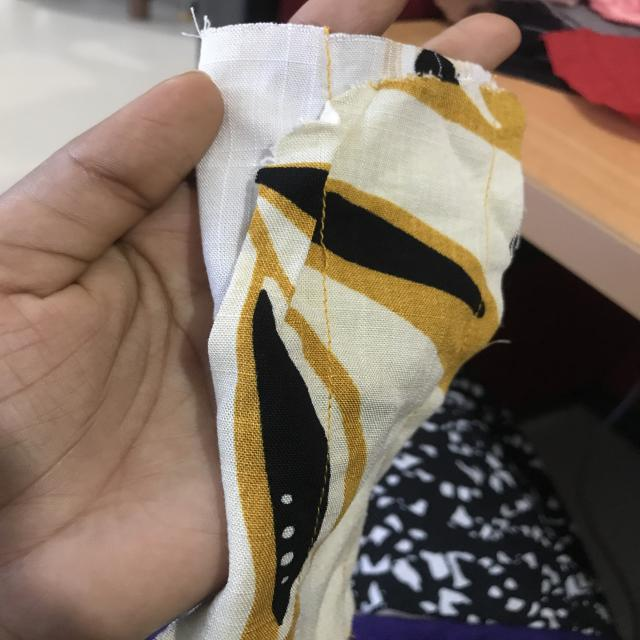skip: (314, 236, 339, 280)
